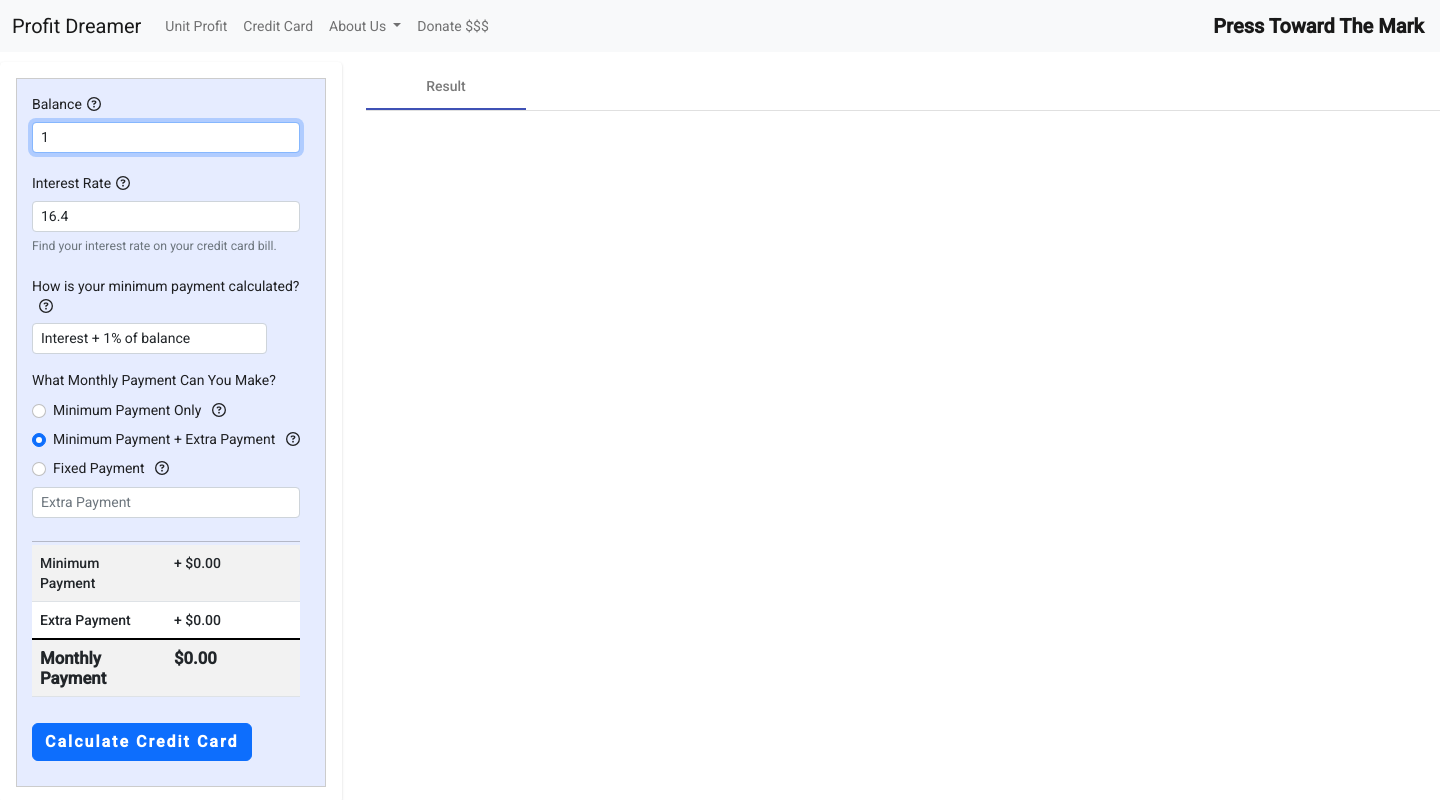
Test: credit-card-validation.cy.ts › credit card balance › enter 0 error should be visible
Replace the text in the field with id "balance" with "0" at (166, 138), box x1=32 y1=122 x2=300 y2=153
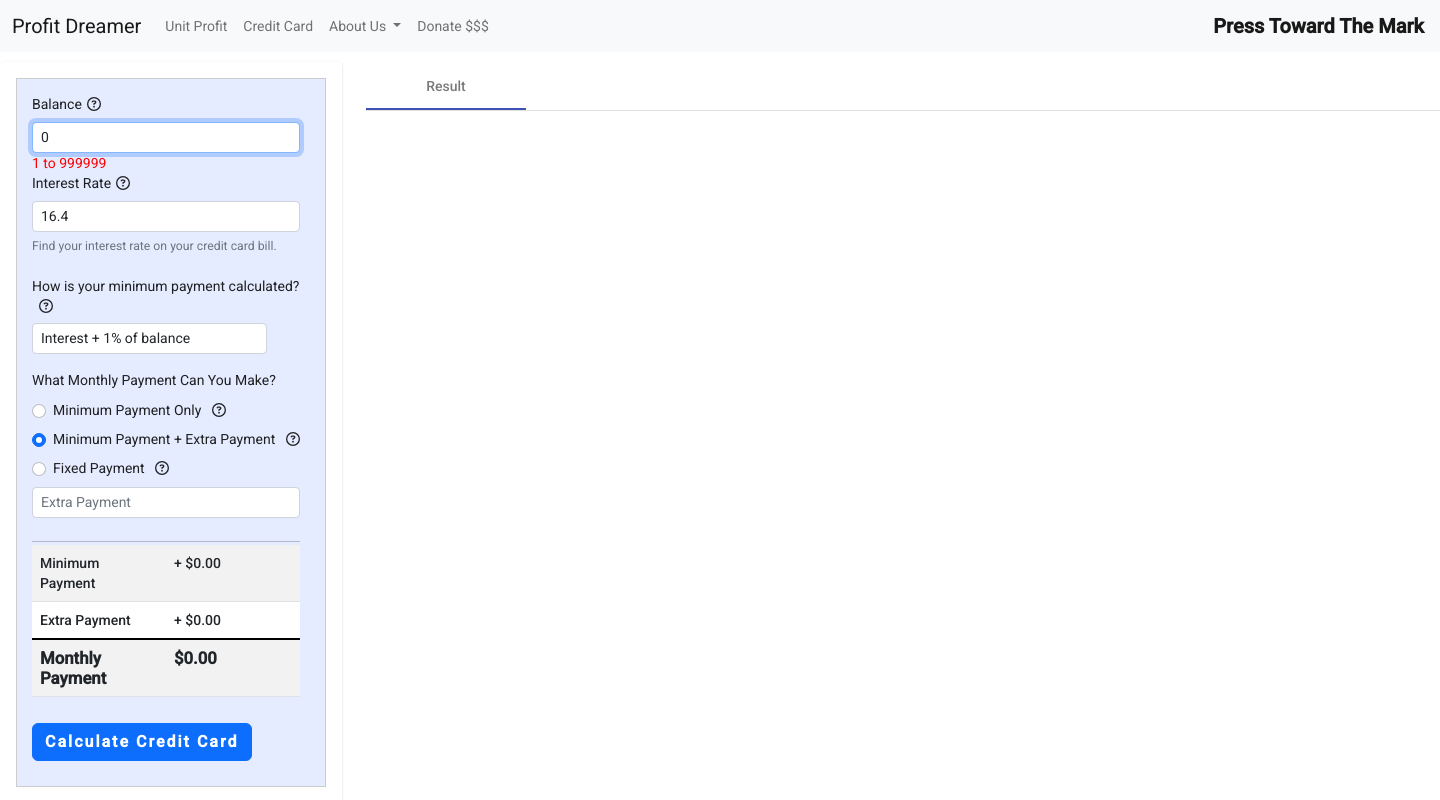
Expected: the text "1 to 999999" is shown, x1=32 y1=155 x2=106 y2=171
